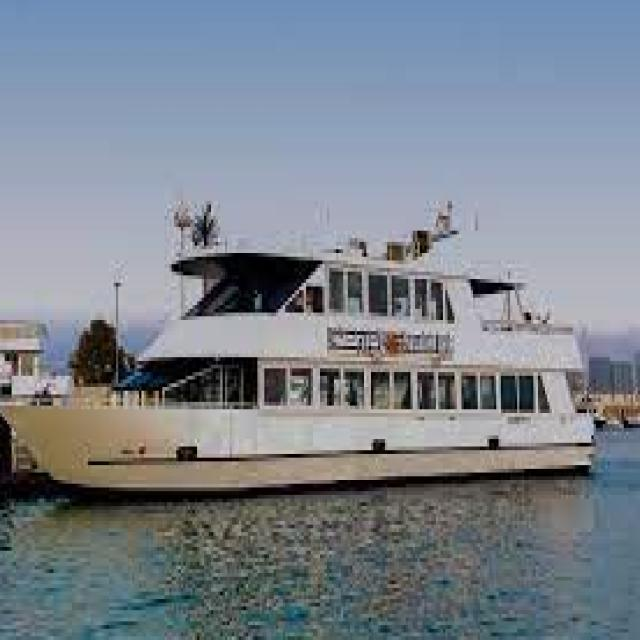passenger ship: (1, 214, 590, 491)
